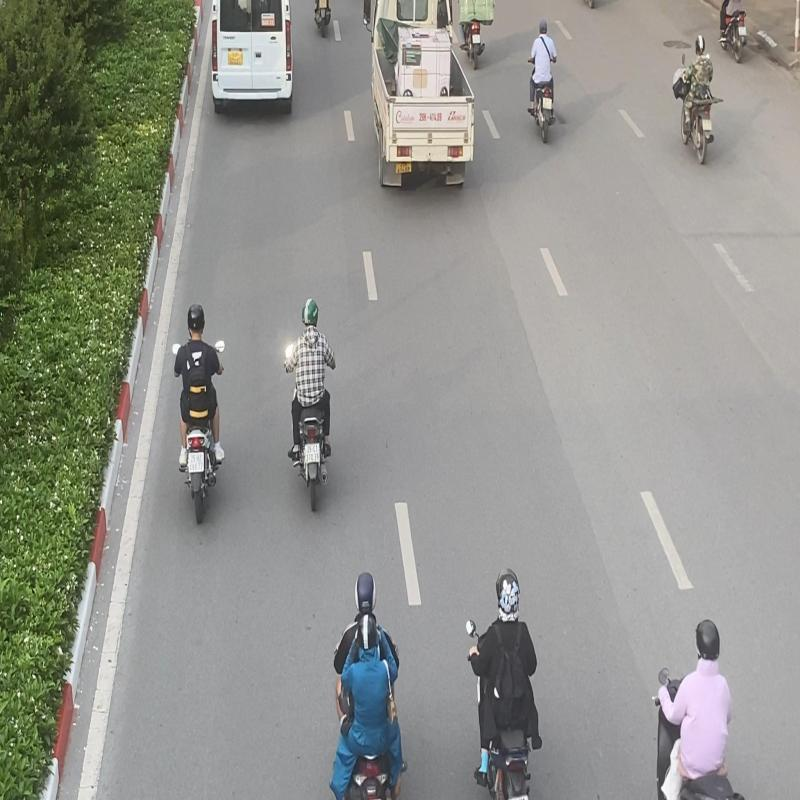helmet: (187, 306, 205, 332), (302, 297, 318, 324)
licenseplate: (304, 442, 320, 465), (188, 453, 204, 472)
motorcyclist: (172, 301, 228, 527), (283, 296, 338, 514)
